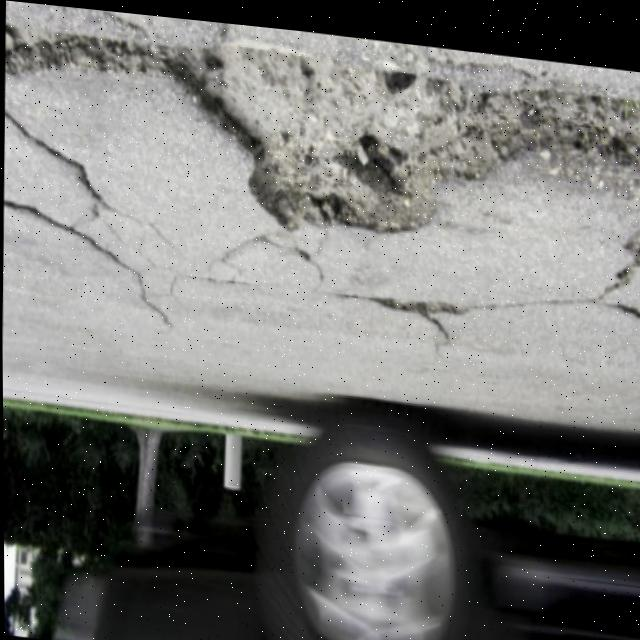Pothole: (167, 14, 569, 270)
